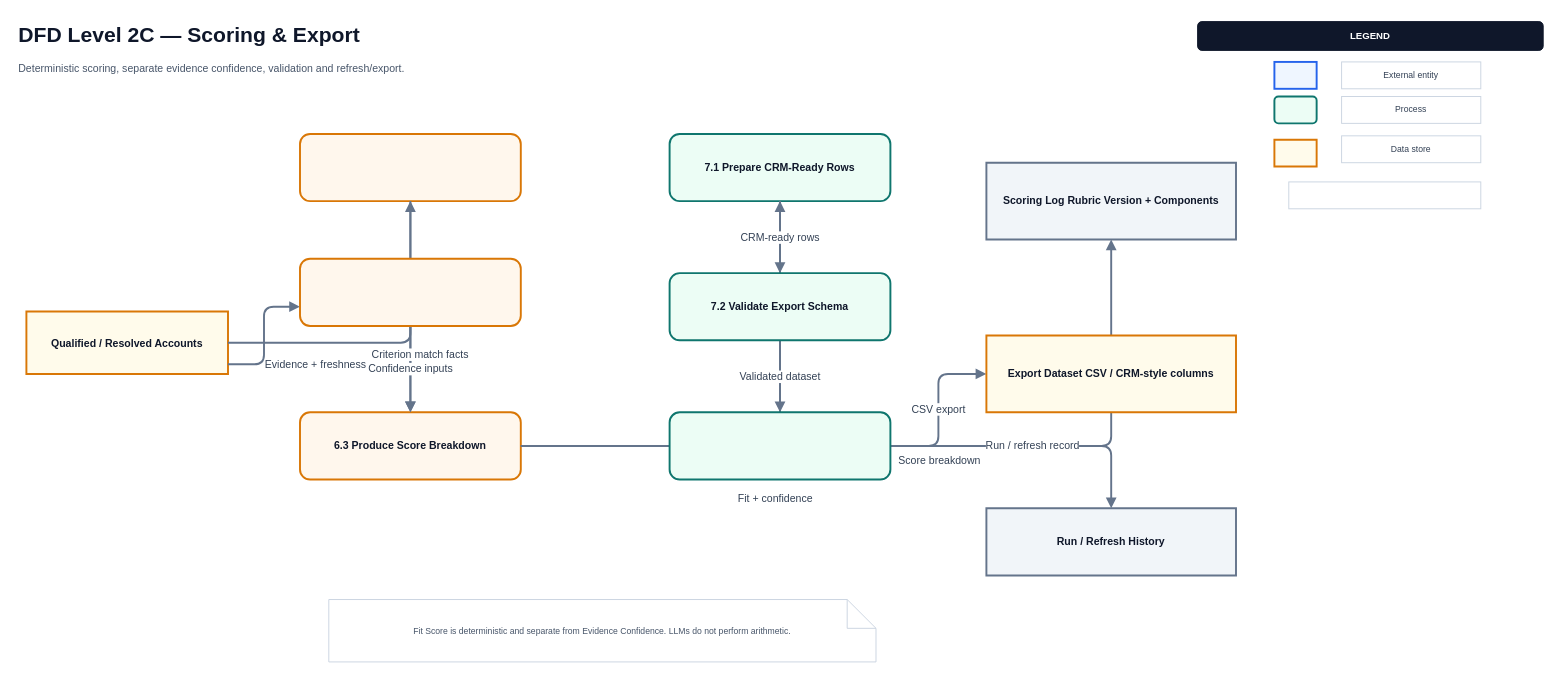
This 1560x679 diagram has some shape labels left out. The centre of each missing label's shape, as x and y in pixels:
6.1 Calculate Fit Components: [410,167]
6.2 Calculate Evidence Confidence: [410,291]
7.3 Export CSV / Refresh Results: [779,445]
Arrow = directed data flow: [1384,195]
